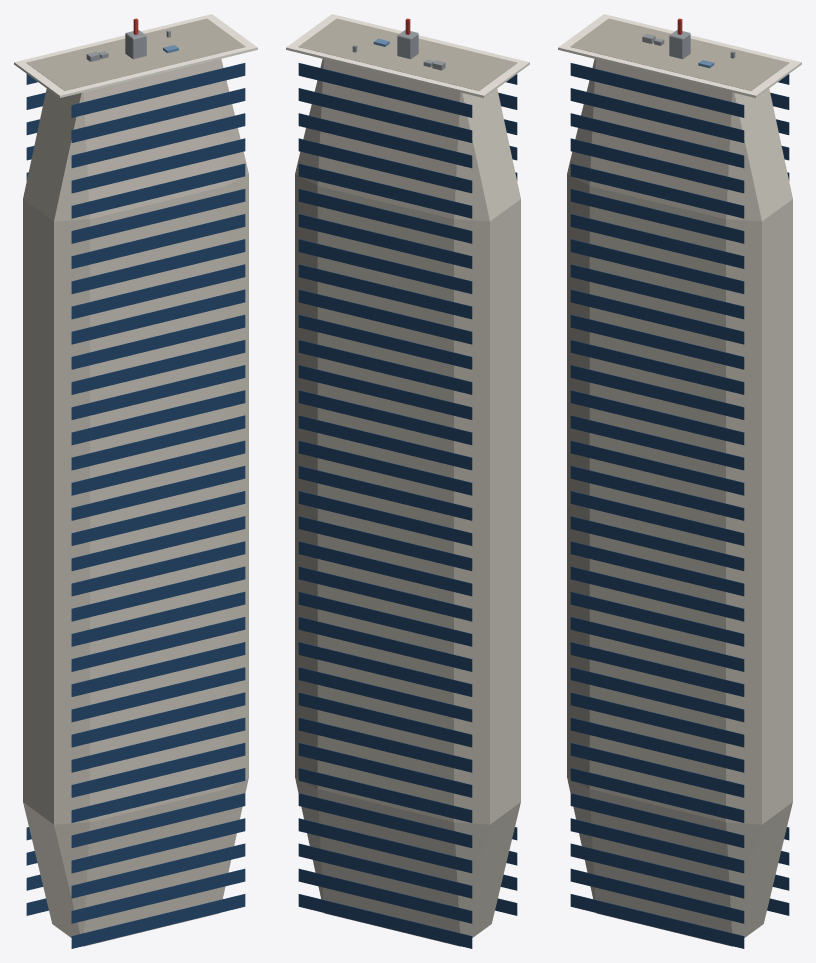
The model's file is tower_slab_h130.glb.
3 renders of one model, left to right at view 1: azimuth 30°, elevation 25°; view 2: azimuth 150°, elevation 25°; view 3: azimuth 330°, elevation 25°, orthographic.
Parts seen in each view (by area): view 1: slab, slabroof, slablip, win.001, win.009, win.012, win.020, win.013, win.023, win.024, win.028, win.031 (+26 smaller); view 2: slab, slabroof, slablip, win.035, win.043, win.046, win.054, win.047, win.057, win.058, win.062, win.065 (+26 smaller); view 3: slab, slabroof, slablip, win.001, win.009, win.012, win.020, win.013, win.023, win.024, win.028, win.031 (+26 smaller).
Part boxes in pixels (box(x1,y1,x2,y2)): slab: box(23, 59, 248, 946); slabroof: box(26, 18, 245, 90); slablip: box(14, 14, 257, 97); win.001: box(71, 868, 245, 923); win.009: box(71, 667, 245, 722); win.012: box(71, 591, 245, 646); win.020: box(71, 390, 245, 445); win.013: box(71, 566, 245, 621); win.023: box(71, 314, 245, 369); win.024: box(71, 289, 245, 344); win.028: box(71, 189, 245, 243); win.031: box(71, 113, 245, 168); slab: box(295, 59, 520, 946); slabroof: box(298, 18, 517, 90); slablip: box(286, 14, 529, 97); win.035: box(298, 868, 472, 923); win.043: box(298, 667, 472, 722); win.046: box(298, 591, 472, 646); win.054: box(298, 390, 472, 445); win.047: box(298, 566, 472, 621); win.057: box(298, 314, 472, 369); win.058: box(298, 289, 472, 344); win.062: box(298, 189, 472, 243); win.065: box(298, 113, 472, 168); slab: box(567, 59, 792, 946); slabroof: box(570, 18, 789, 90); slablip: box(558, 14, 801, 97); win.001: box(570, 868, 744, 923); win.009: box(570, 667, 744, 722); win.012: box(570, 591, 744, 646); win.020: box(570, 390, 744, 445); win.013: box(570, 566, 744, 621); win.023: box(570, 314, 744, 369); win.024: box(570, 289, 744, 344); win.028: box(570, 189, 744, 243); win.031: box(570, 113, 744, 168).
Size of the model in its own units: 31.24 by 136 by 12.54.
